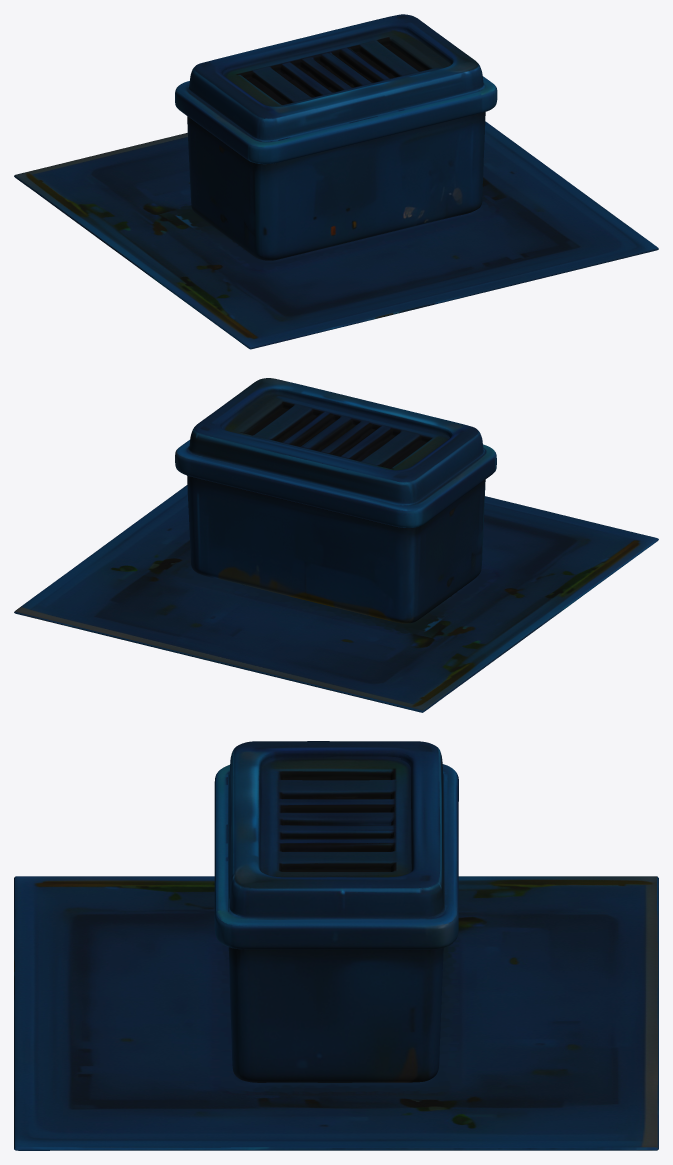
File: CableBox.glb
3 renders of one model, top to bottom at view 1: azimuth 30°, elevation 25°; view 2: azimuth 150°, elevation 25°; view 3: azimuth 270°, elevation 25°, orthographic. The views are drawn at different scales.
Visible parts, largest first — view 1: CableBox; view 2: CableBox; view 3: CableBox.
Part boxes in pixels (x1,y1,x2,y2): CableBox: (14, 14, 658, 349); CableBox: (14, 378, 658, 712); CableBox: (14, 741, 658, 1150).
Size of the model in its own units: 1.99 by 0.6912 by 1.99.
Materials: 1 (1 with a texture image).
